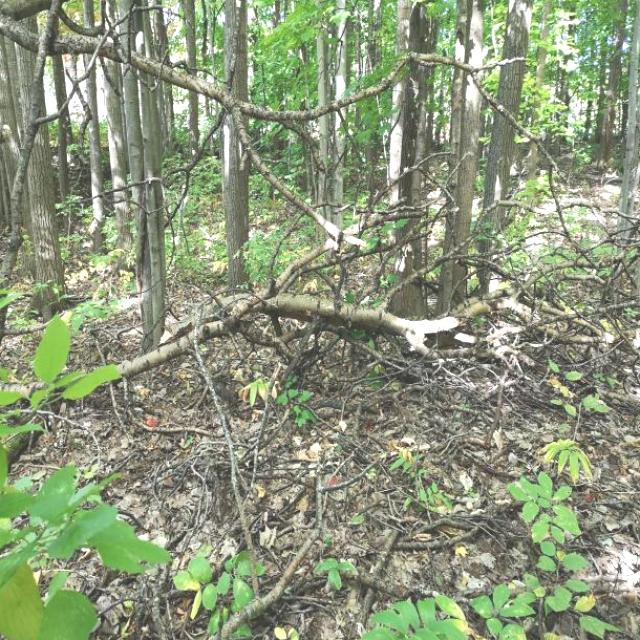fallen_object: (12, 140, 640, 527)
